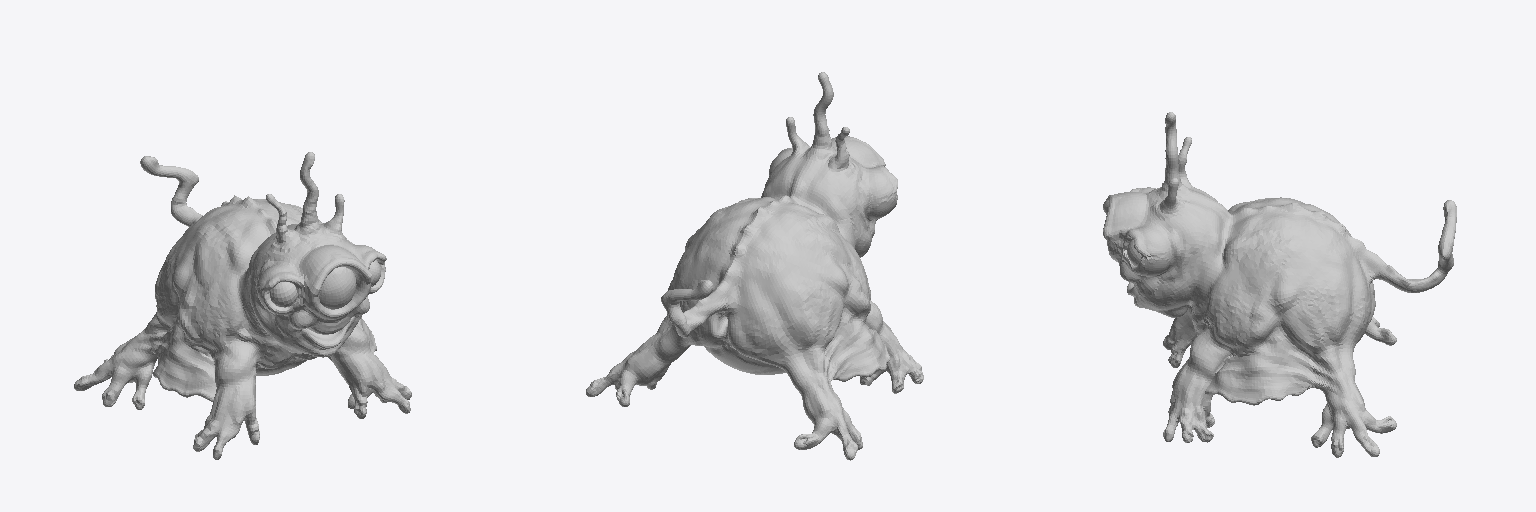
Rendered from Cutie pie_body.OBJ.
3 views of the same model, side by side, from view 1: azimuth 30°, elevation 25°; view 2: azimuth 150°, elevation 25°; view 3: azimuth 270°, elevation 25° (orthographic).
Parts seen in each view (by area): view 1: ZBrush_defualt_group, Group2, Group1; view 2: ZBrush_defualt_group; view 3: ZBrush_defualt_group.
Boxes of the visible parts, x1=… form: ZBrush_defualt_group: x1=74, y1=152, x2=411, y2=459; Group2: x1=319, y1=267, x2=356, y2=309; Group1: x1=270, y1=282, x2=297, y2=307; ZBrush_defualt_group: x1=586, y1=72, x2=923, y2=460; ZBrush_defualt_group: x1=1103, y1=112, x2=1456, y2=457.
Size of the model in its own units: 5.25 by 5.37 by 6.01.